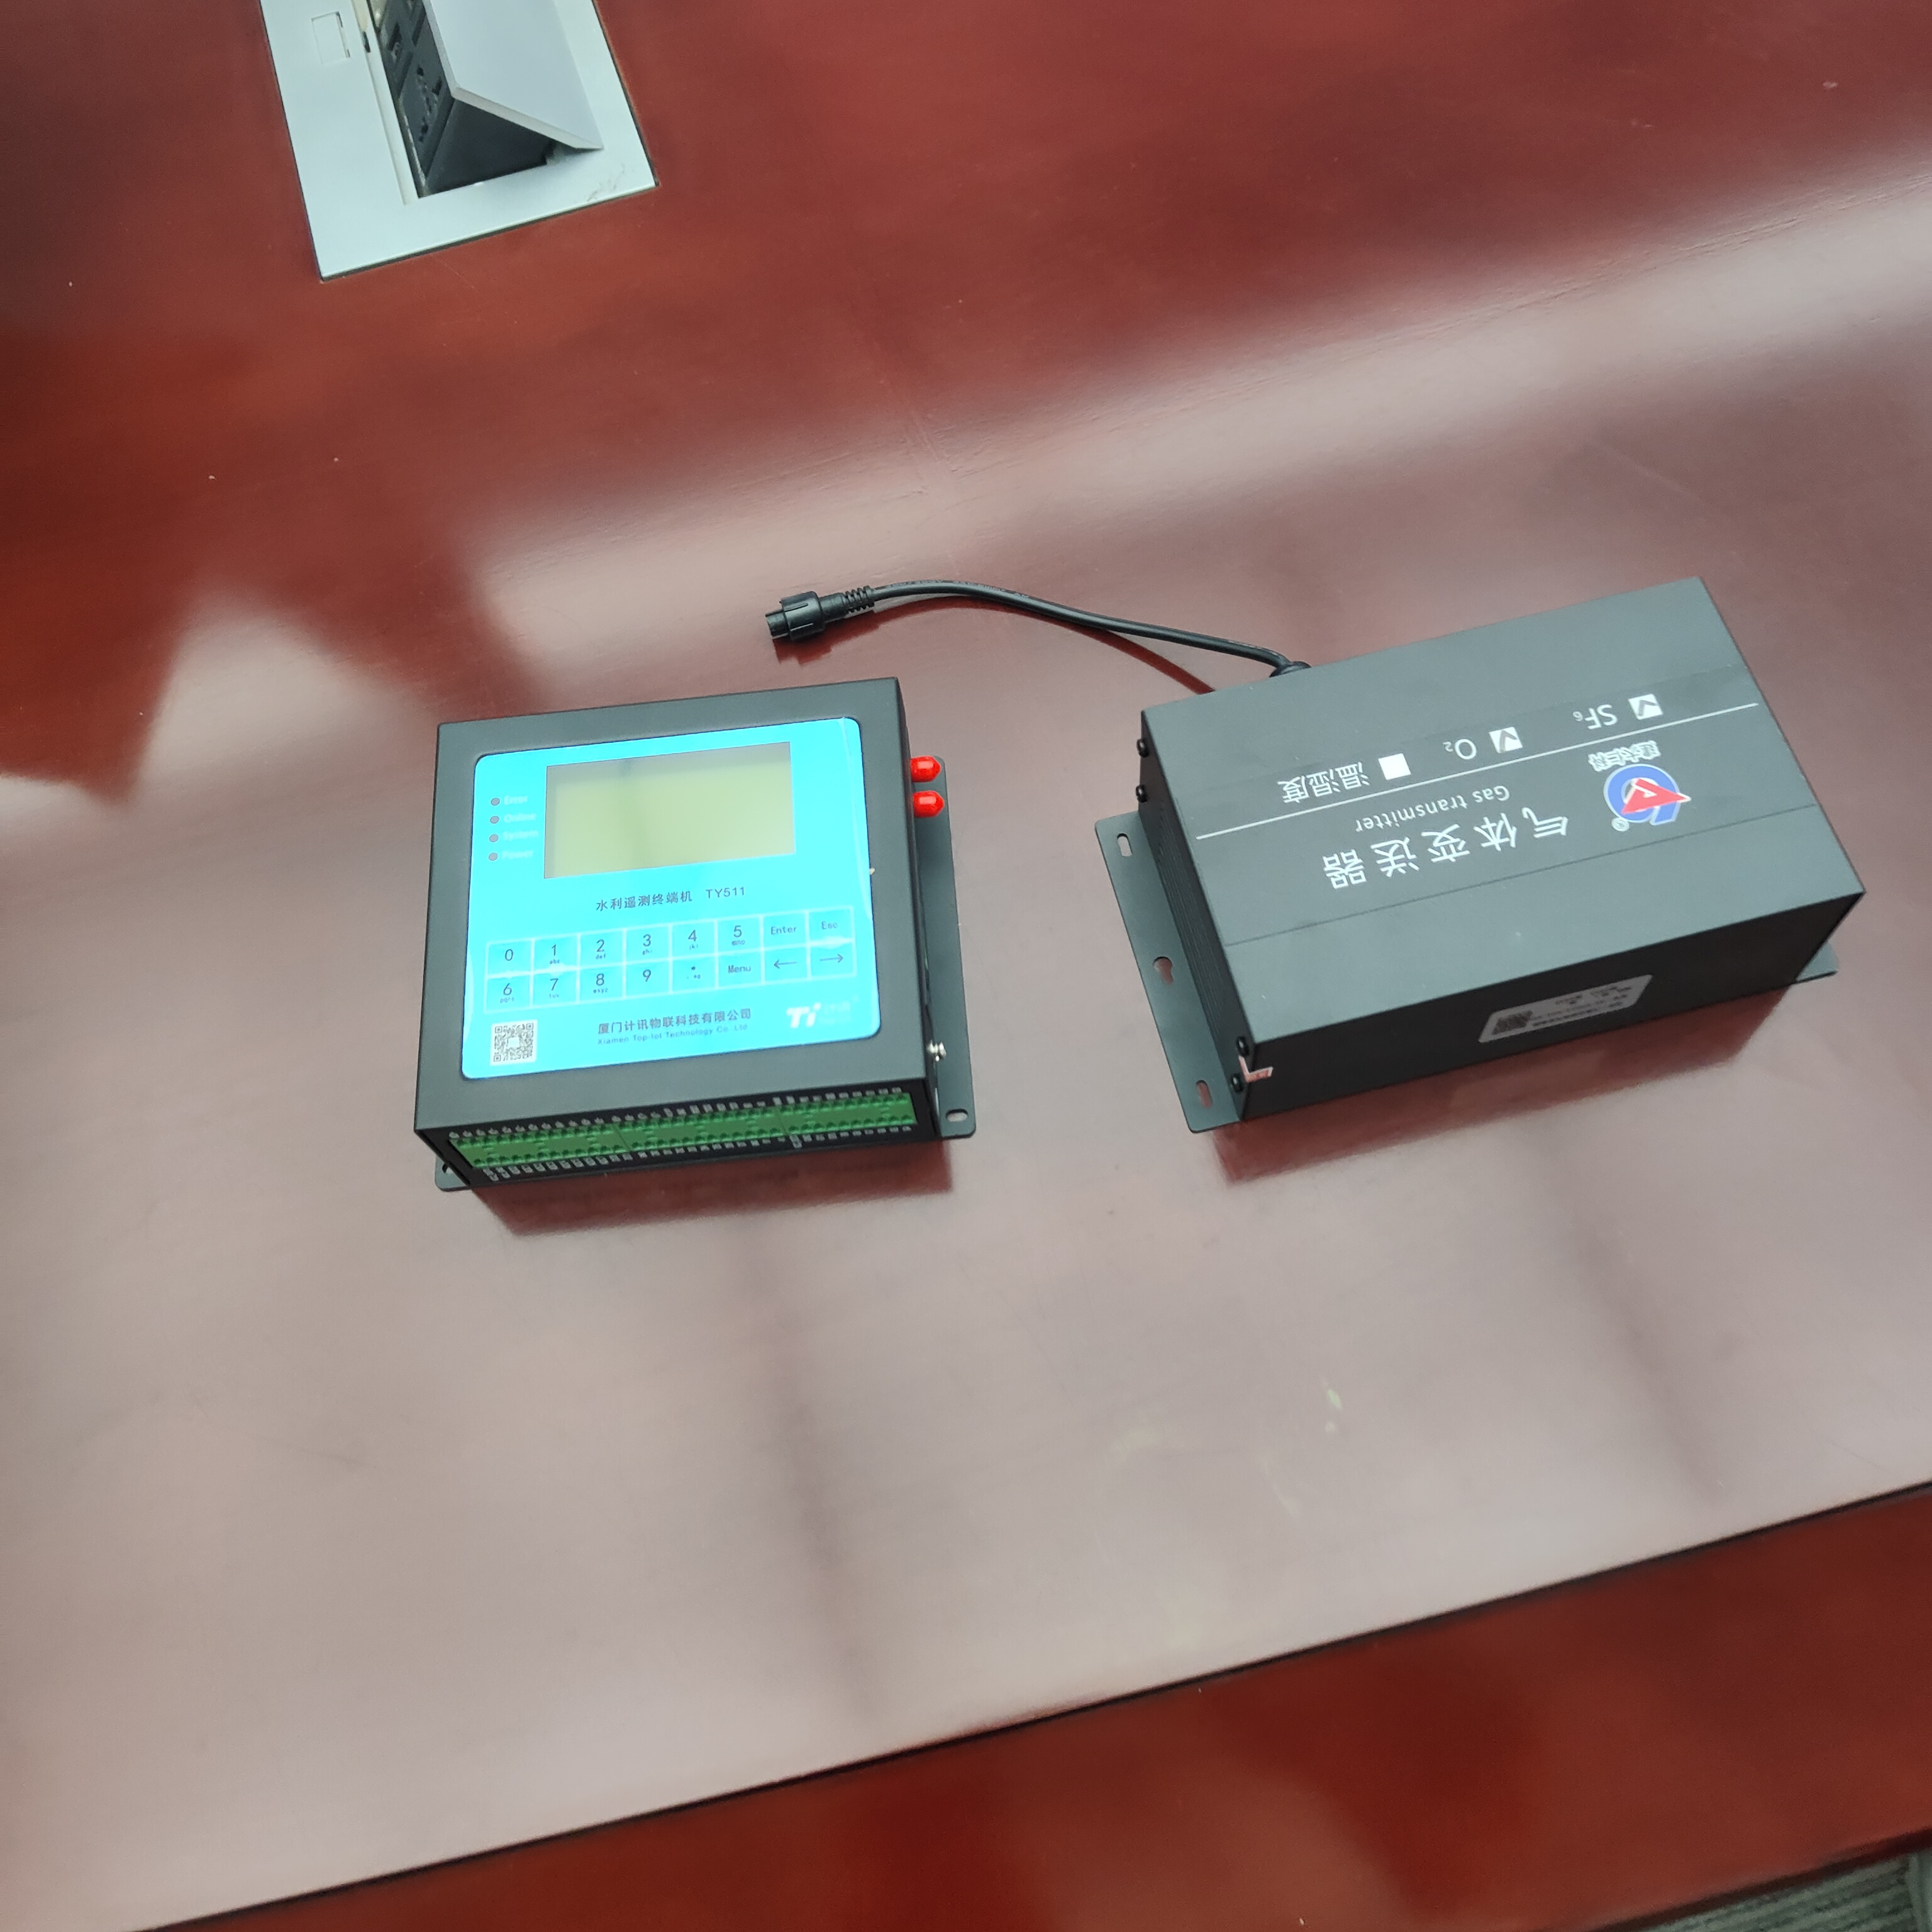qtbsq: (1106, 559, 1844, 1159)
slyczd: (387, 678, 987, 1207)
